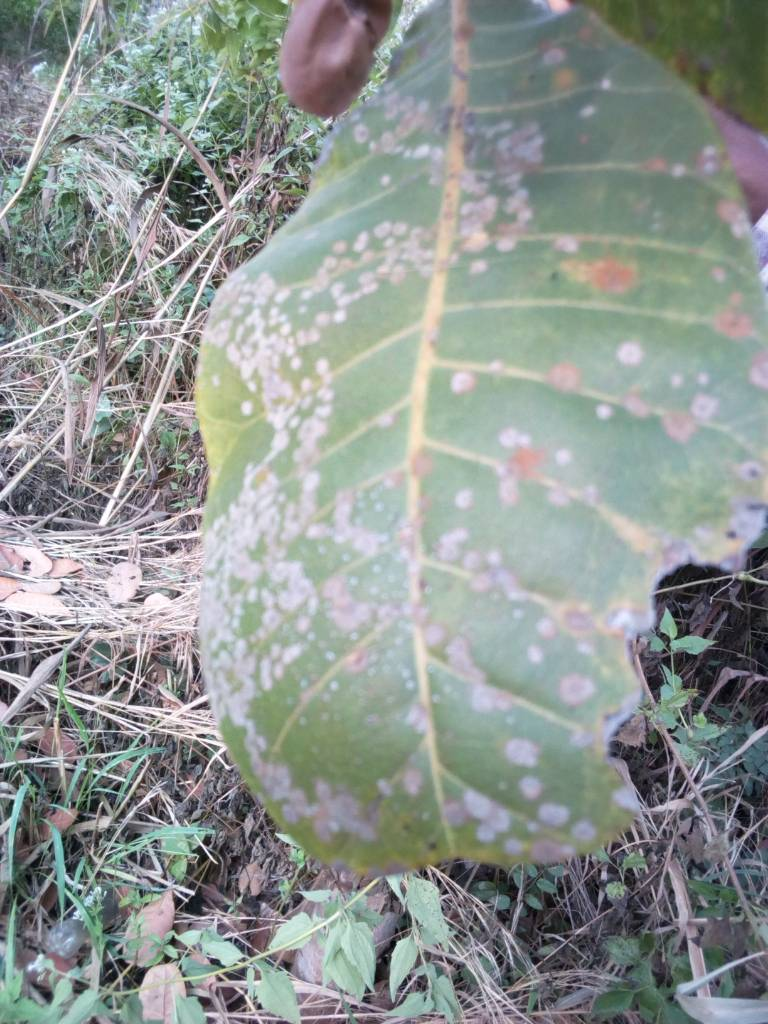Rouille: (100, 28, 766, 886)
